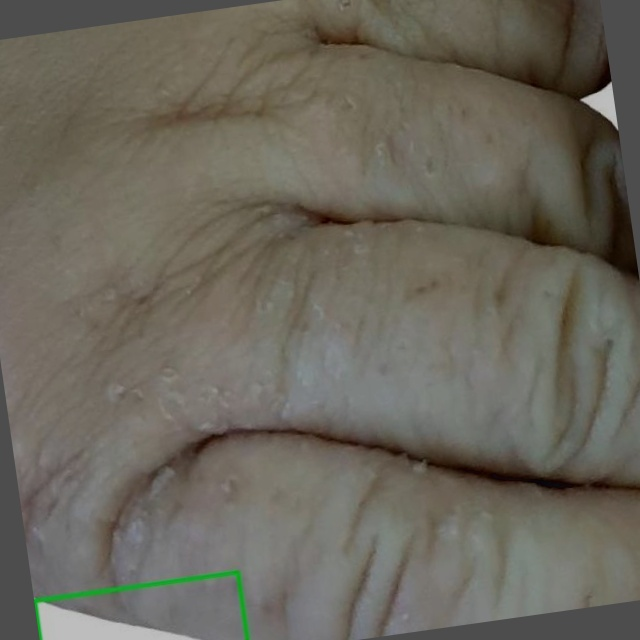Scabies: (34, 572, 248, 639)
